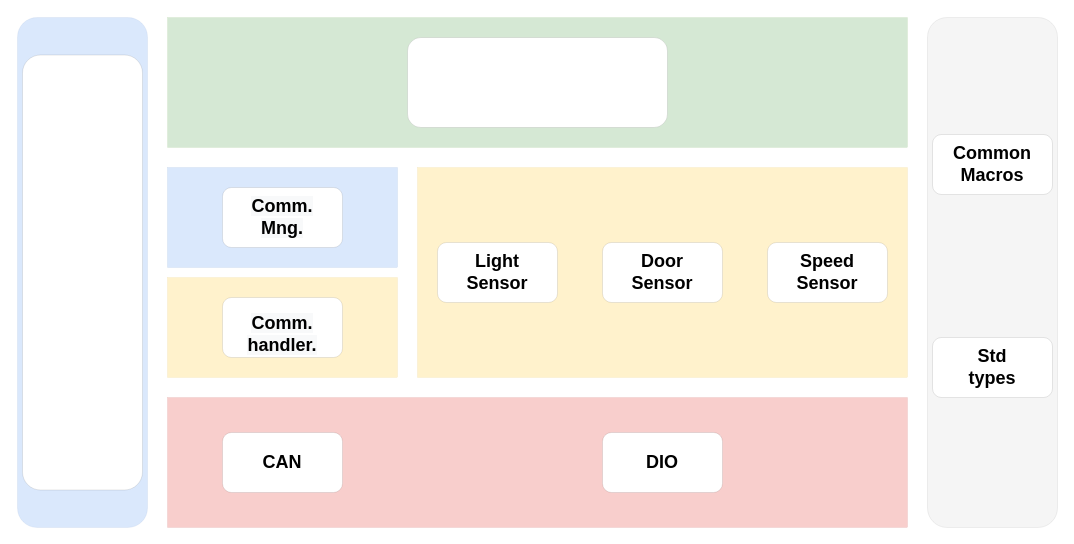
Image size: 1074x544. Some labels were removed from this diagram. Each missing label, with the centre of its shape:
"ECU-1 Application" goes at [537,82].
"OS" goes at [82,272].
